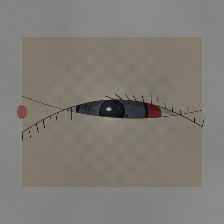hemorrhage_spot: (104, 88, 171, 141)
